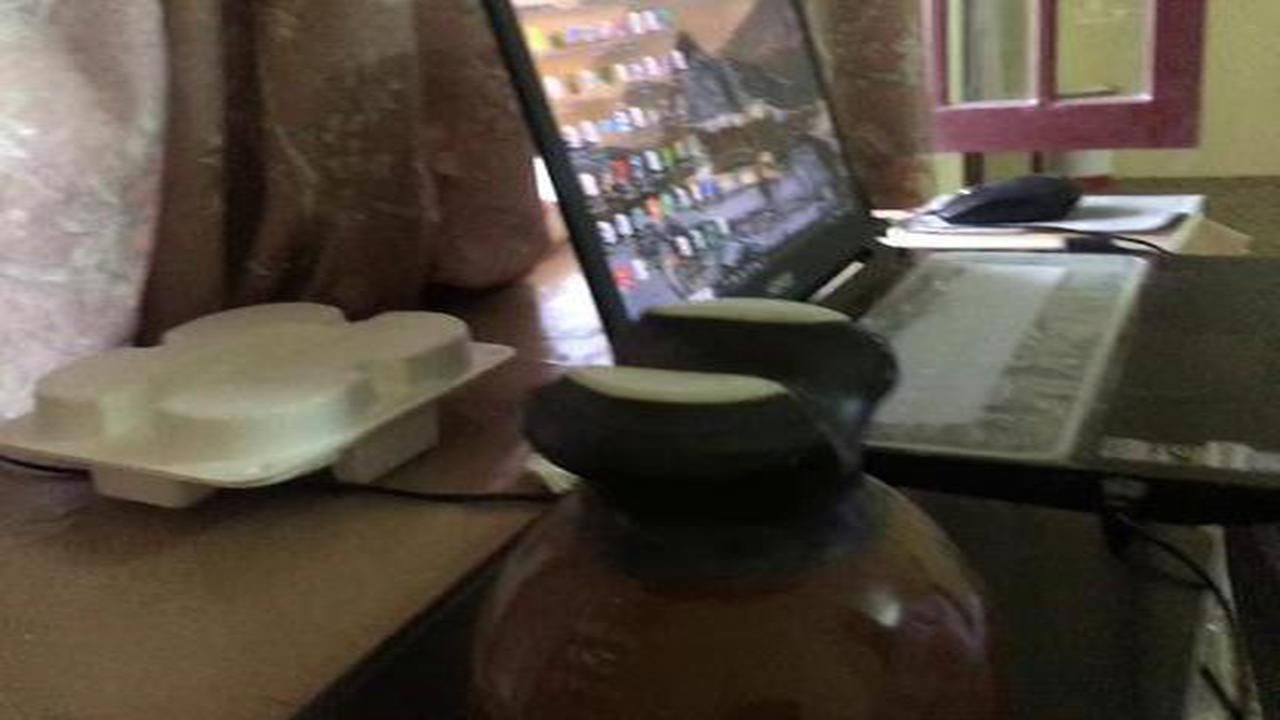insulator_pin: (450, 284, 1034, 714)
